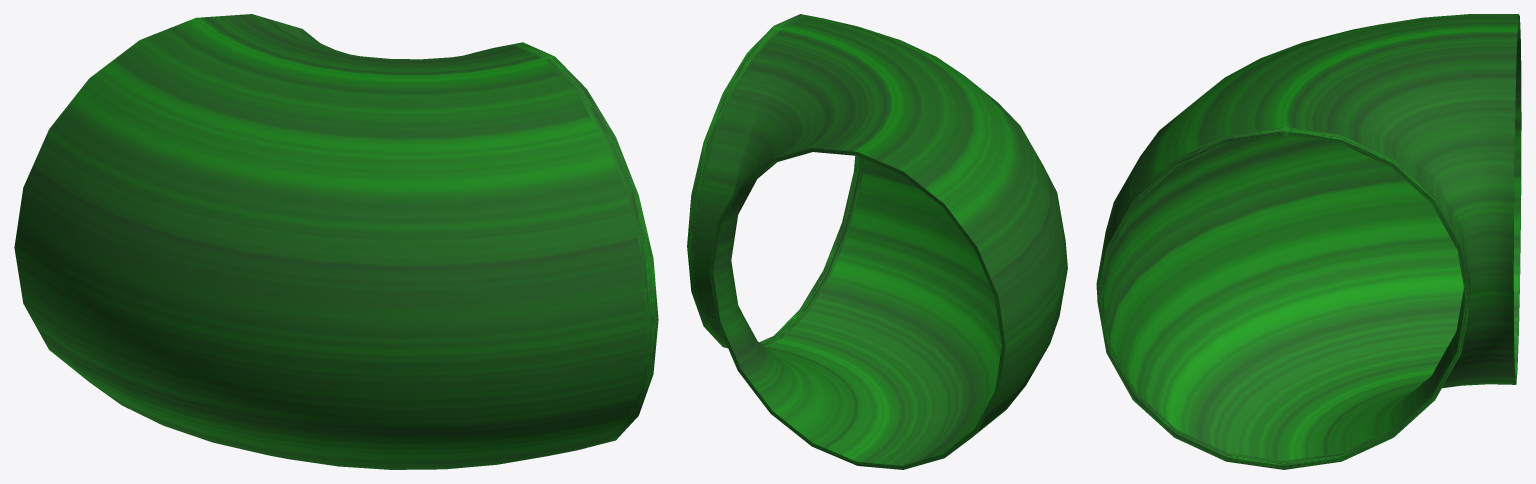
The model's file is CubeBaseFrontPipeCurvG.fbx.
3 views of the same model, side by side, from view 1: azimuth 30°, elevation 25°; view 2: azimuth 150°, elevation 25°; view 3: azimuth 270°, elevation 25° (orthographic). The views are drawn at different scales.
Parts seen in each view (by area): view 1: pPipe2; view 2: pPipe2; view 3: pPipe2.
Boxes of the visible parts, x1,y1,x2,y2 form: pPipe2: (14, 14, 658, 469); pPipe2: (687, 14, 1067, 469); pPipe2: (1096, 14, 1521, 469).
Size of the model in its own units: 0.9124 by 0.8 by 0.91.
Materials: 1 (1 with a texture image).
